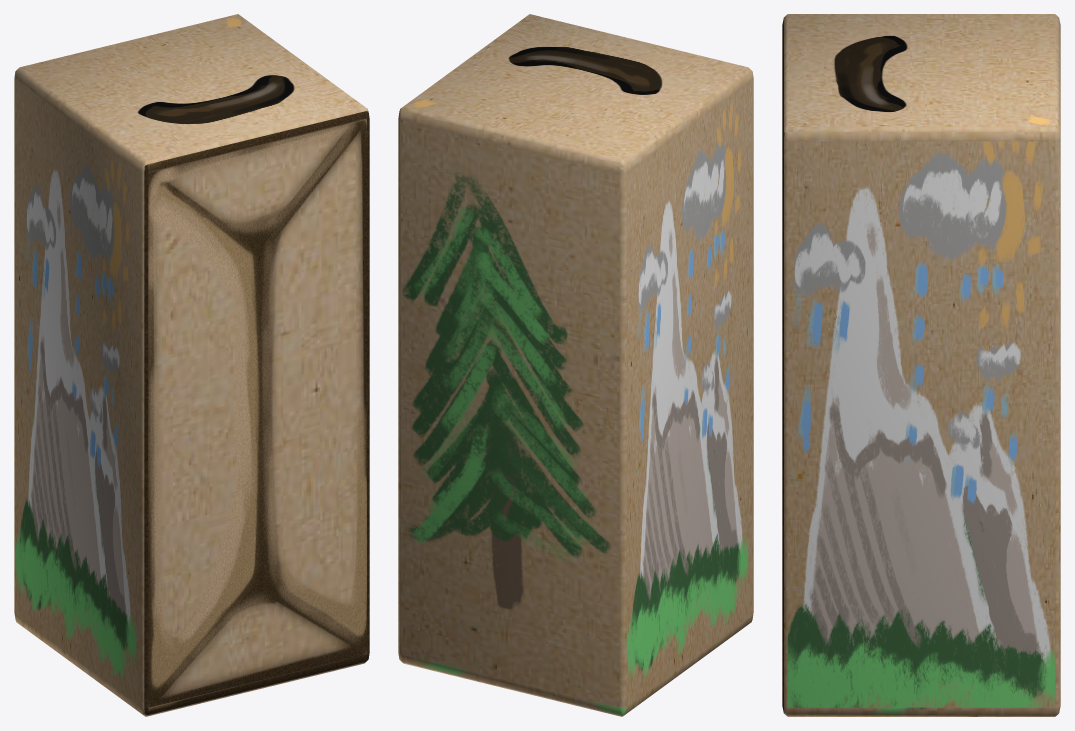
File: Box_Ver3.2.fbx
The picture shows the model from 3 angles, left to right: view 1: azimuth 30°, elevation 25°; view 2: azimuth 150°, elevation 25°; view 3: azimuth 270°, elevation 25°; orthographic projection. The views are drawn at different scales.
Visible parts, largest first — view 1: Cube.001; view 2: Cube.001; view 3: Cube.001.
Boxes of the visible parts, x1,y1,x2,y2 form: Cube.001: [14, 14, 369, 716]; Cube.001: [398, 14, 753, 716]; Cube.001: [782, 14, 1060, 716].
Bounding box in the file's own units: 374 × 874 × 374.
